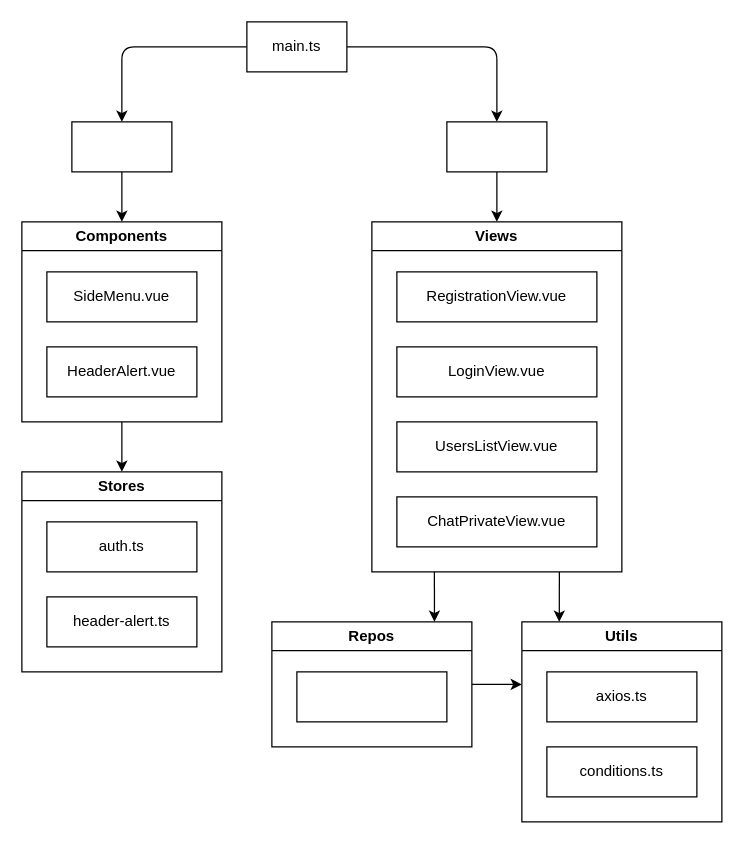
Some shapes in this 744 by 844 pixel diagram are drawn without their labels. Here are the shapes that lost their labels. From the top down, the centre of each, then its label:
At (121,146): "App.vue".
At (496,146): "router".
At (371,696): "users.ts".
